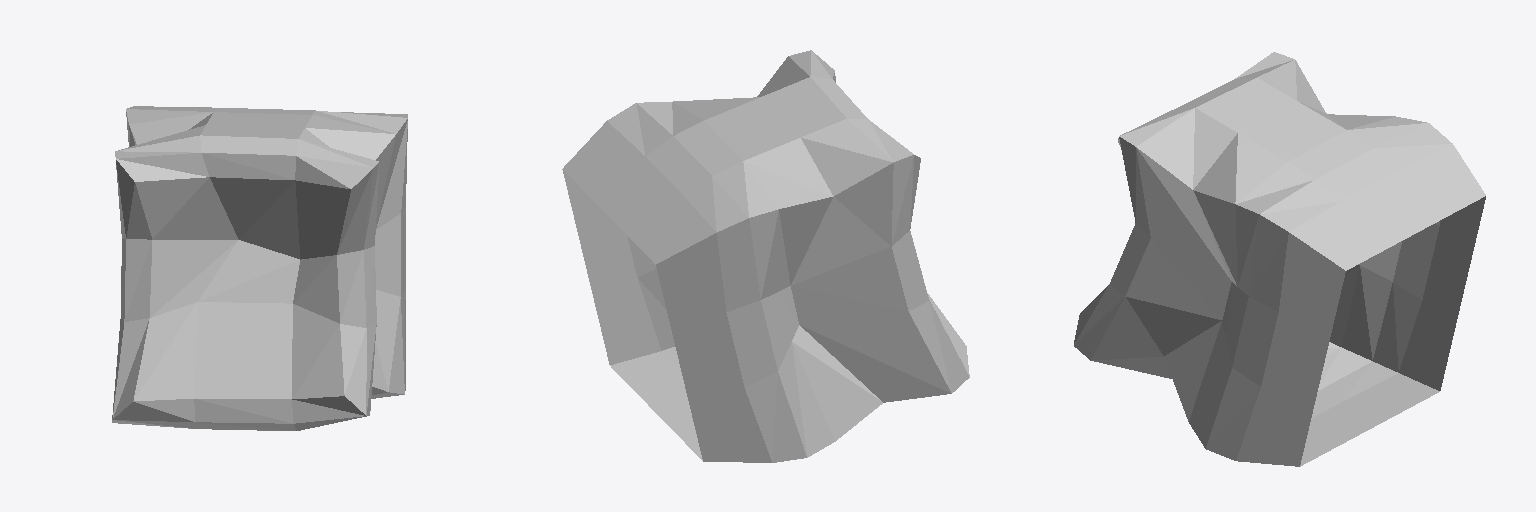
File: Dent_op.obj
3 views of the same model, side by side, from view 1: azimuth 30°, elevation 25°; view 2: azimuth 150°, elevation 25°; view 3: azimuth 270°, elevation 25° (orthographic).
Size of the model in its own units: 7.74 by 6.35 by 8.02.